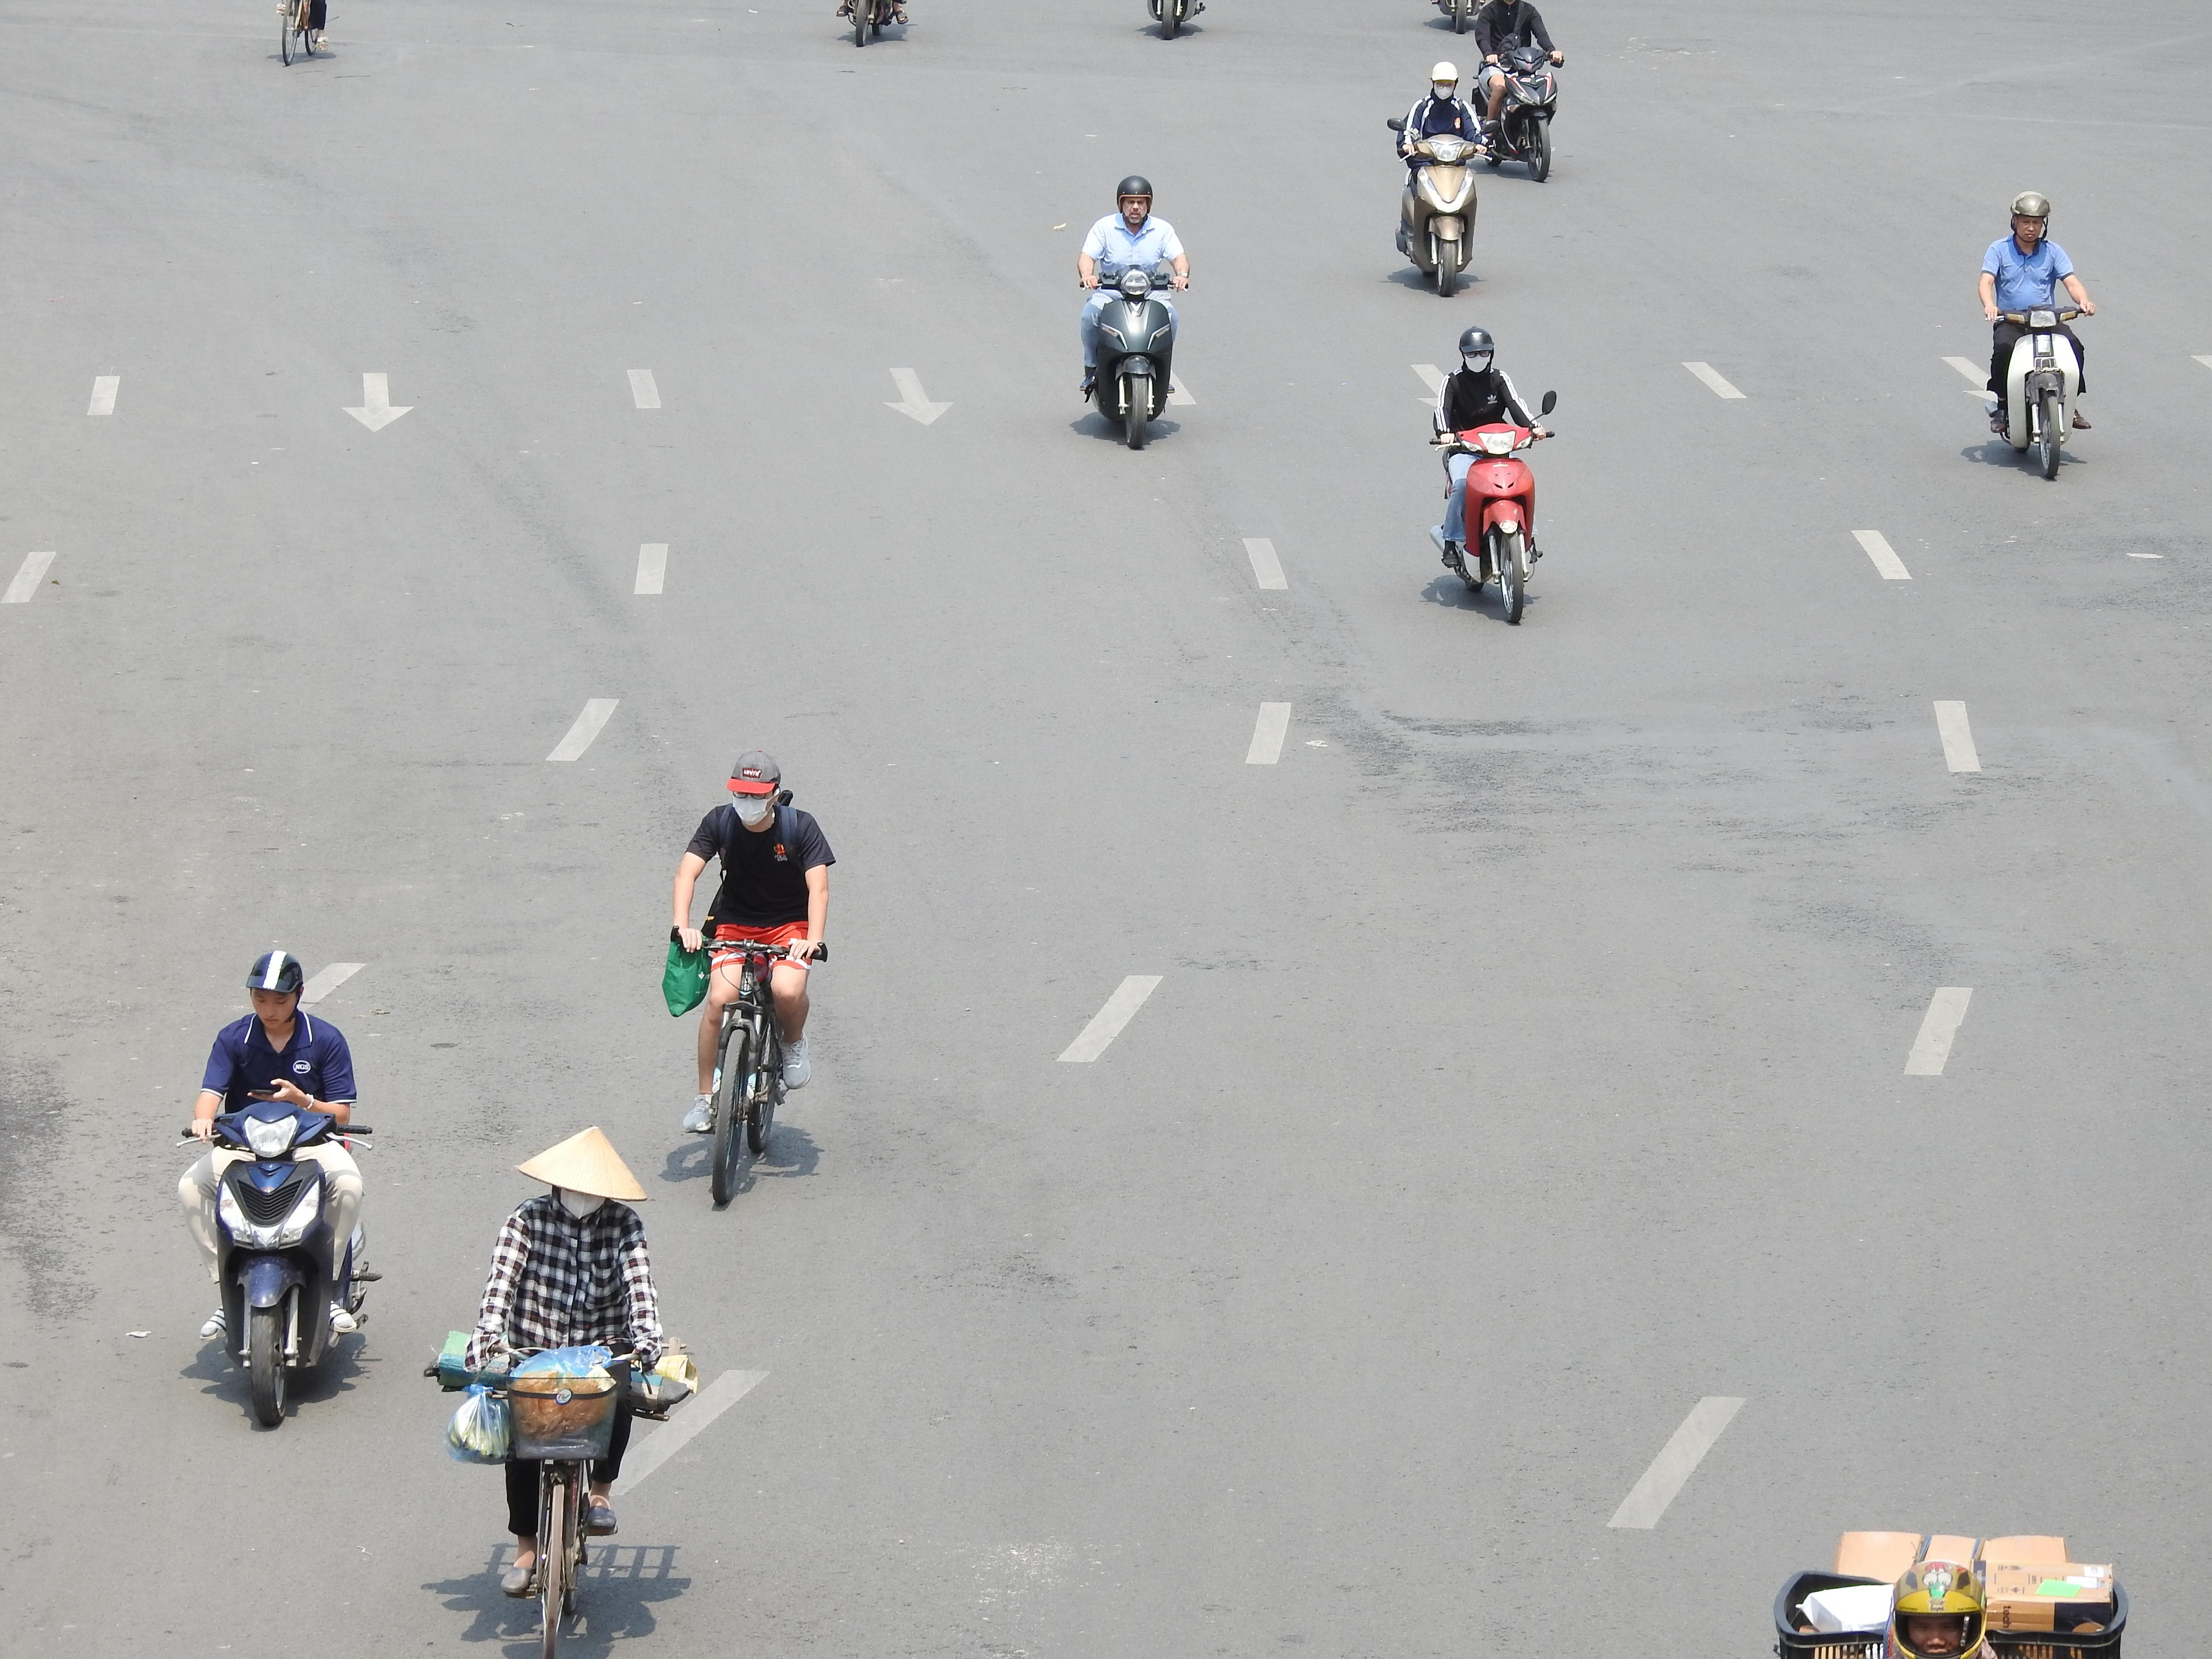motorbike: (428, 1124, 697, 1657), (181, 950, 381, 1431), (665, 748, 834, 1208), (1432, 326, 1554, 626), (1979, 190, 2092, 481), (1078, 174, 1186, 450), (1390, 59, 1484, 298), (1470, 2, 1564, 183)
